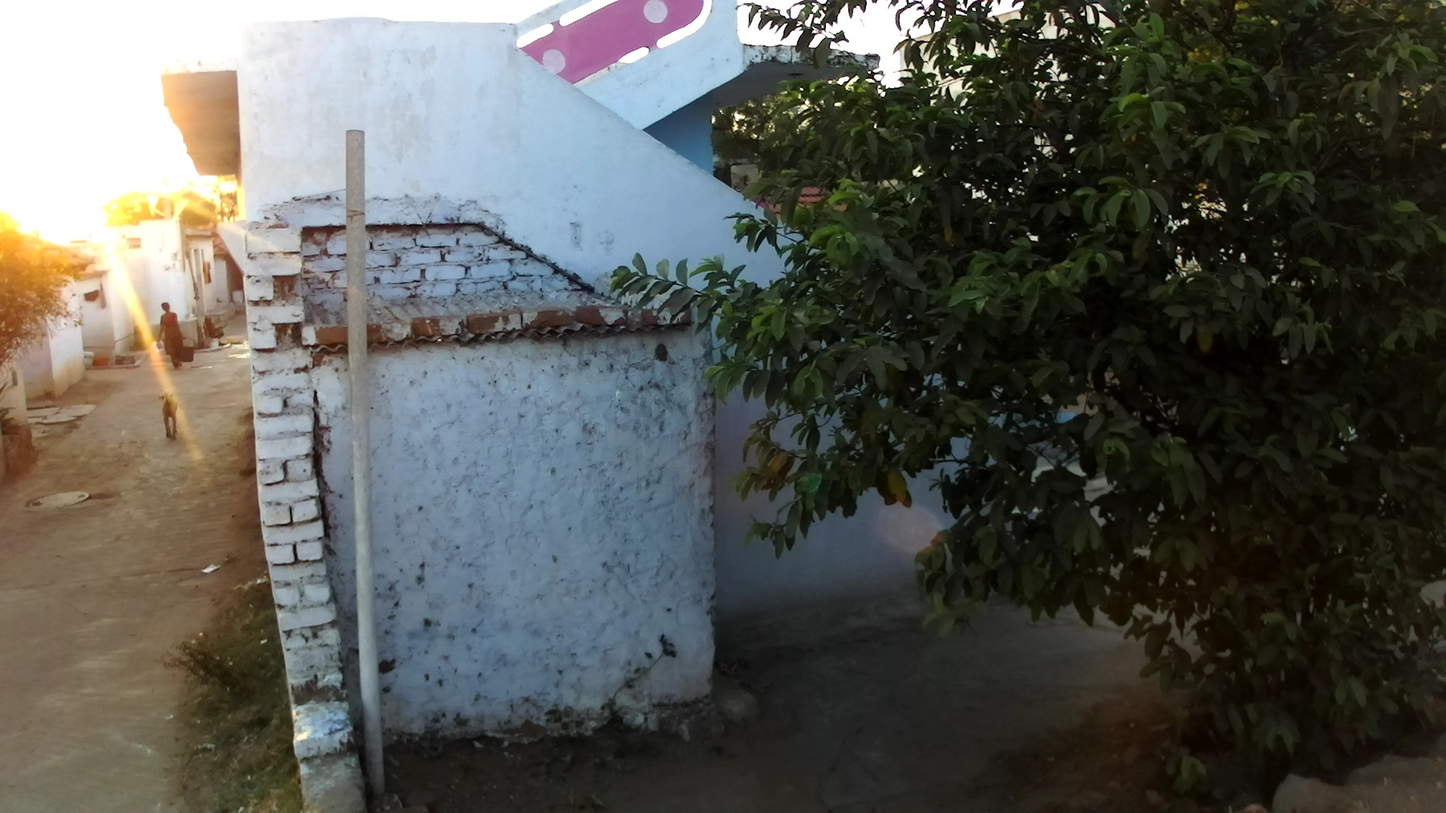animal: (159, 388, 180, 439)
person: (155, 300, 194, 370), (201, 315, 227, 343)
